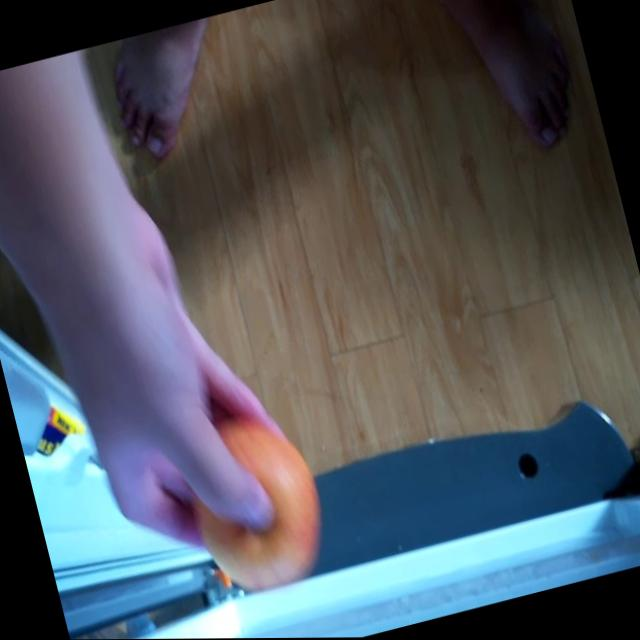apple: (180, 409, 333, 600)
